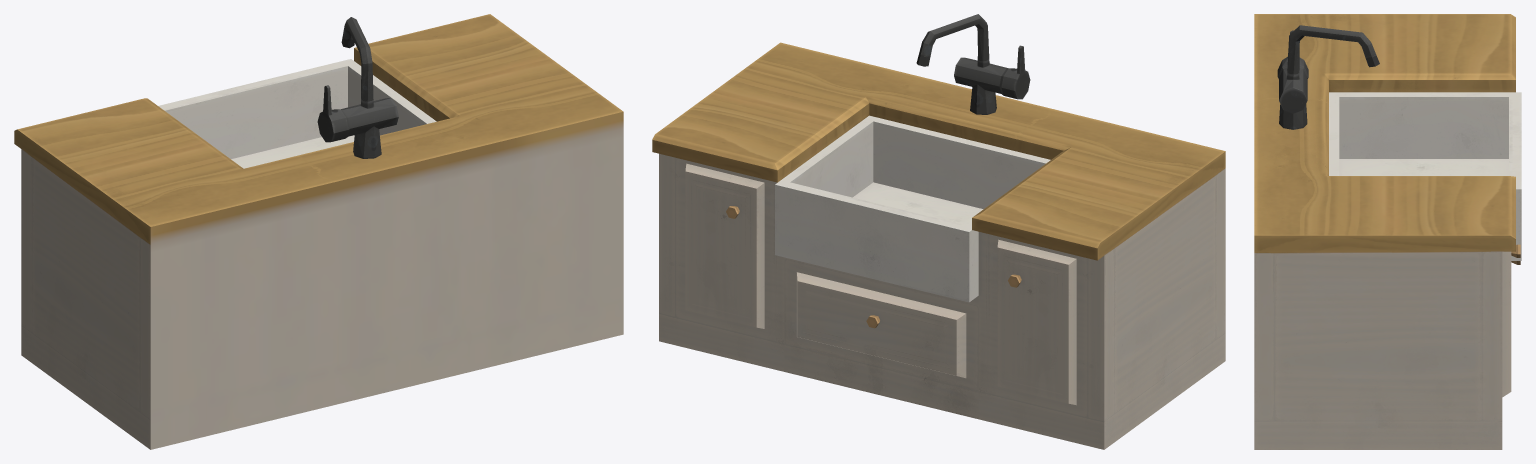
File: P_Cupboard_002_S1_M02.obj
3 views of the same model, side by side, from view 1: azimuth 30°, elevation 25°; view 2: azimuth 150°, elevation 25°; view 3: azimuth 270°, elevation 25° (orthographic). The views are drawn at different scales.
Size of the model in its own units: 2 by 1.33 by 1.02.
Materials: 1 (1 with a texture image).
